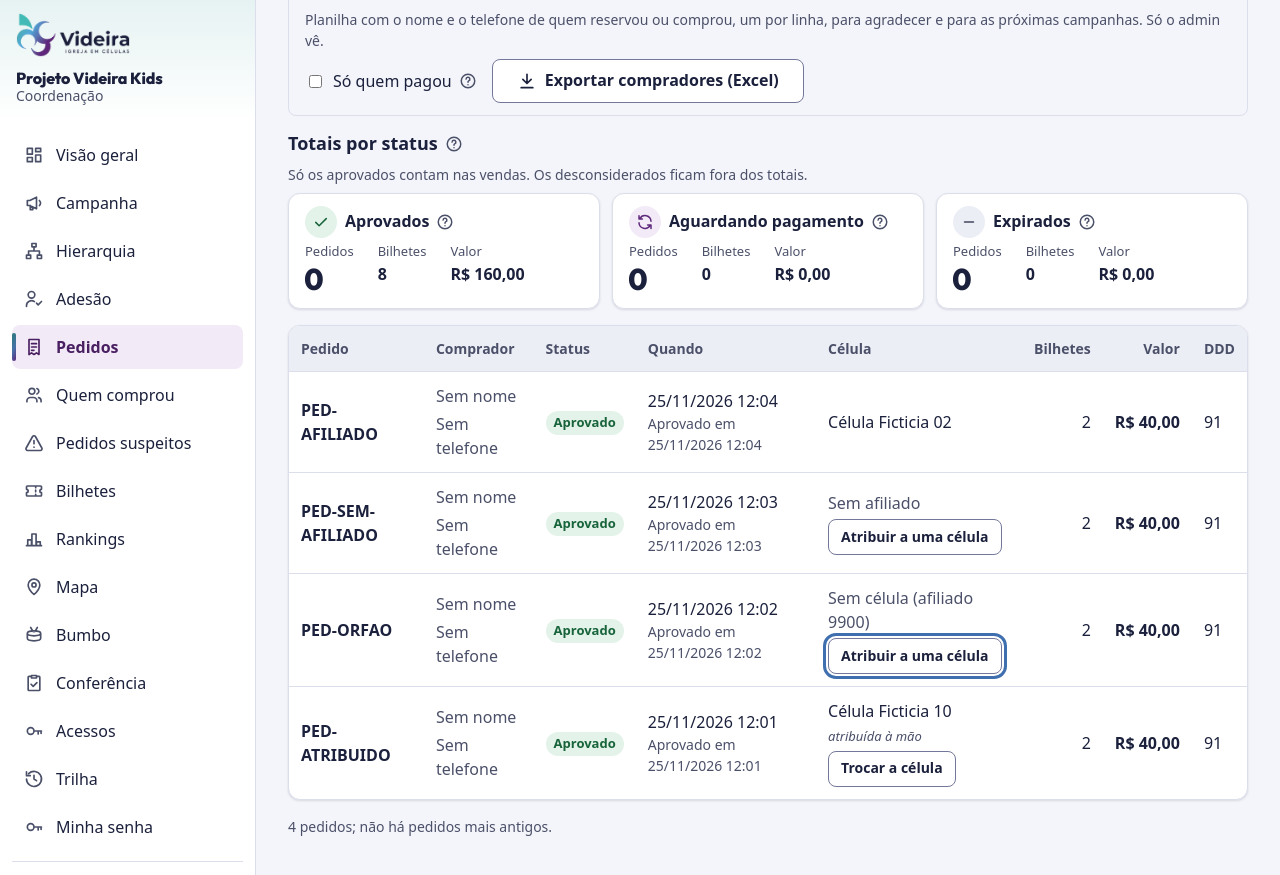
Test: RIFA-088: o diálogo › 409 (o afiliado ganhou célula): explica e troca o Cancelar por 'Entendi'
(page scrolled)
Click the button "Atribuir a uma célula" below "Sem célula (afiliado 9900)" at {"x": 915, "y": 656}, box [828,638,1002,674]
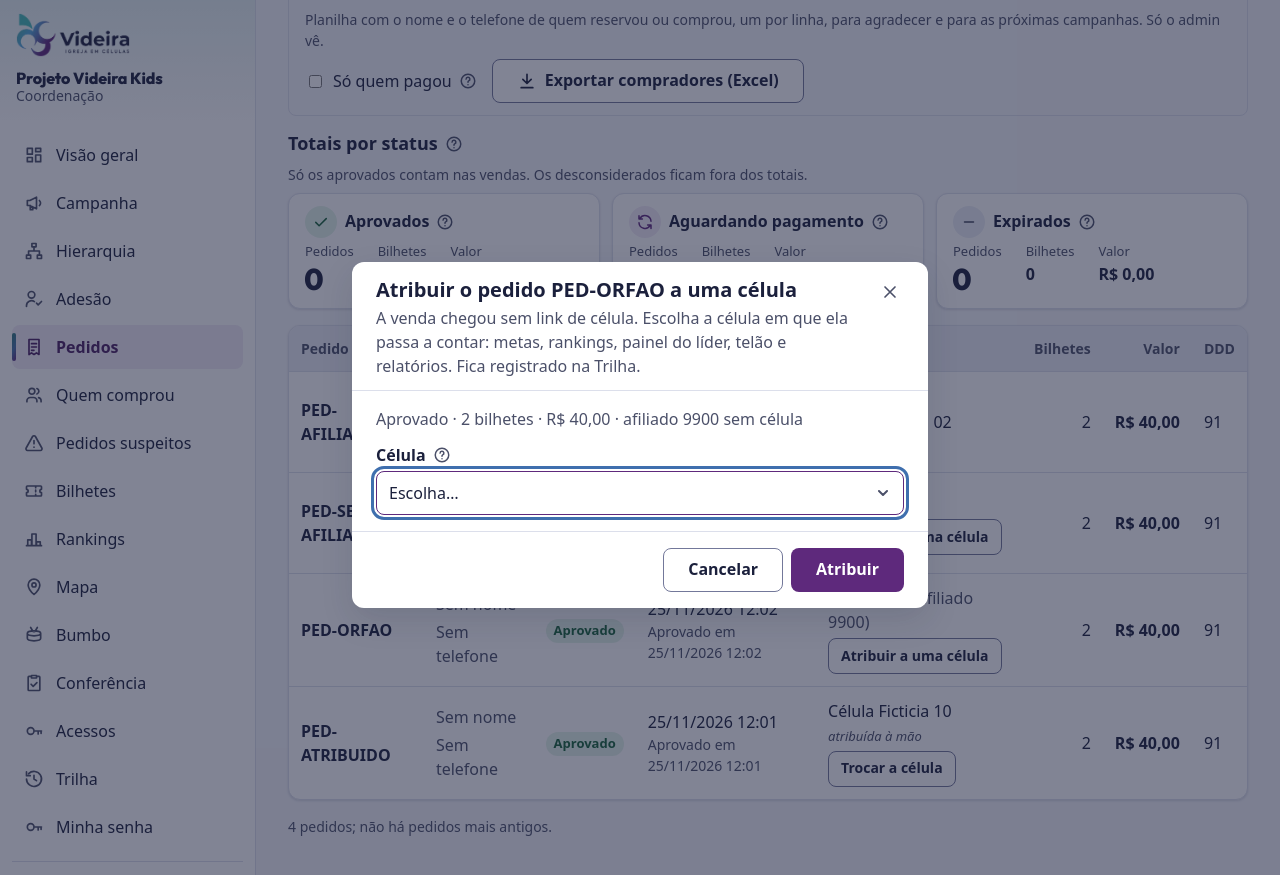
Select "Célula Ficticia 02" in the dropdown labelled "Célula" at {"x": 640, "y": 493}, box [376,471,904,515]
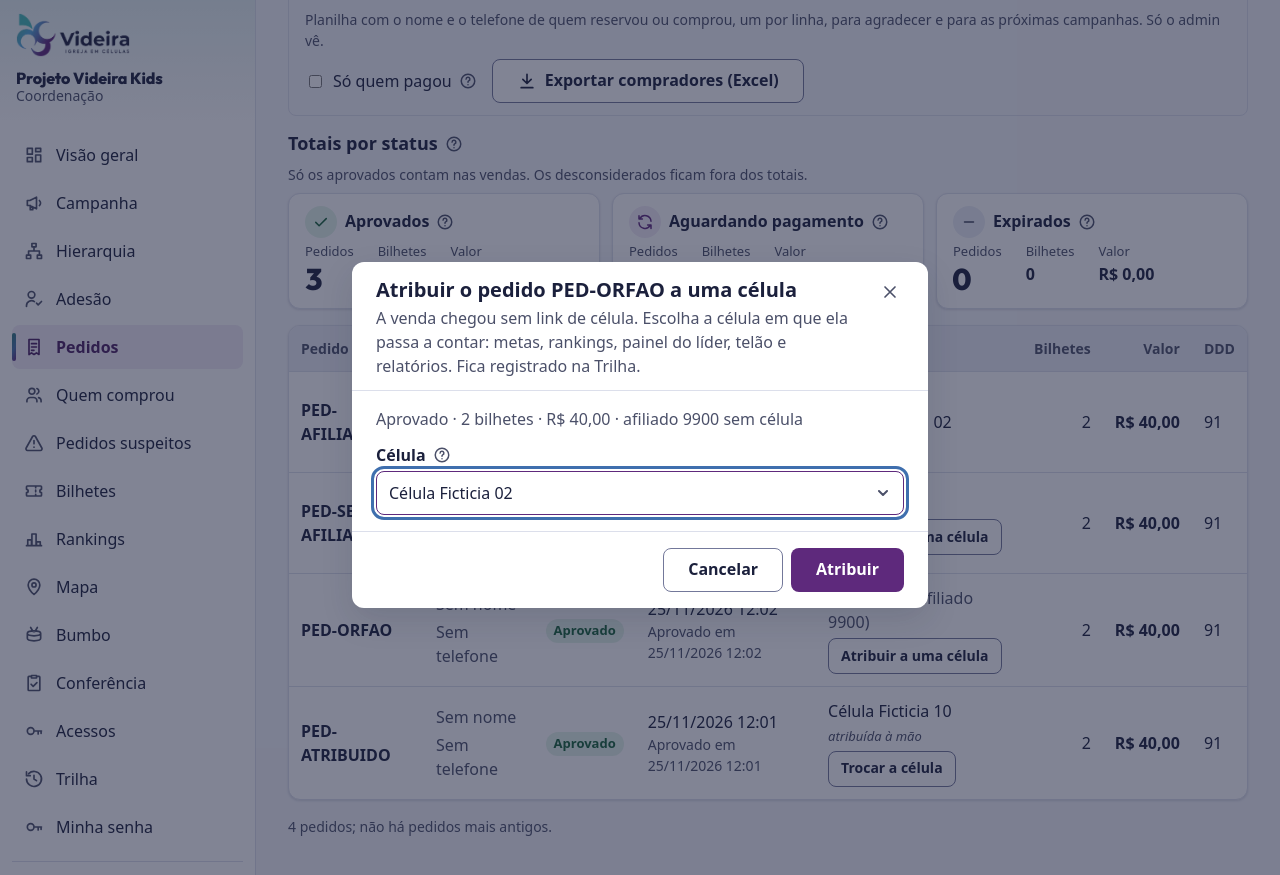
Click the button "Atribuir" at {"x": 848, "y": 570}, box [791,548,904,592]
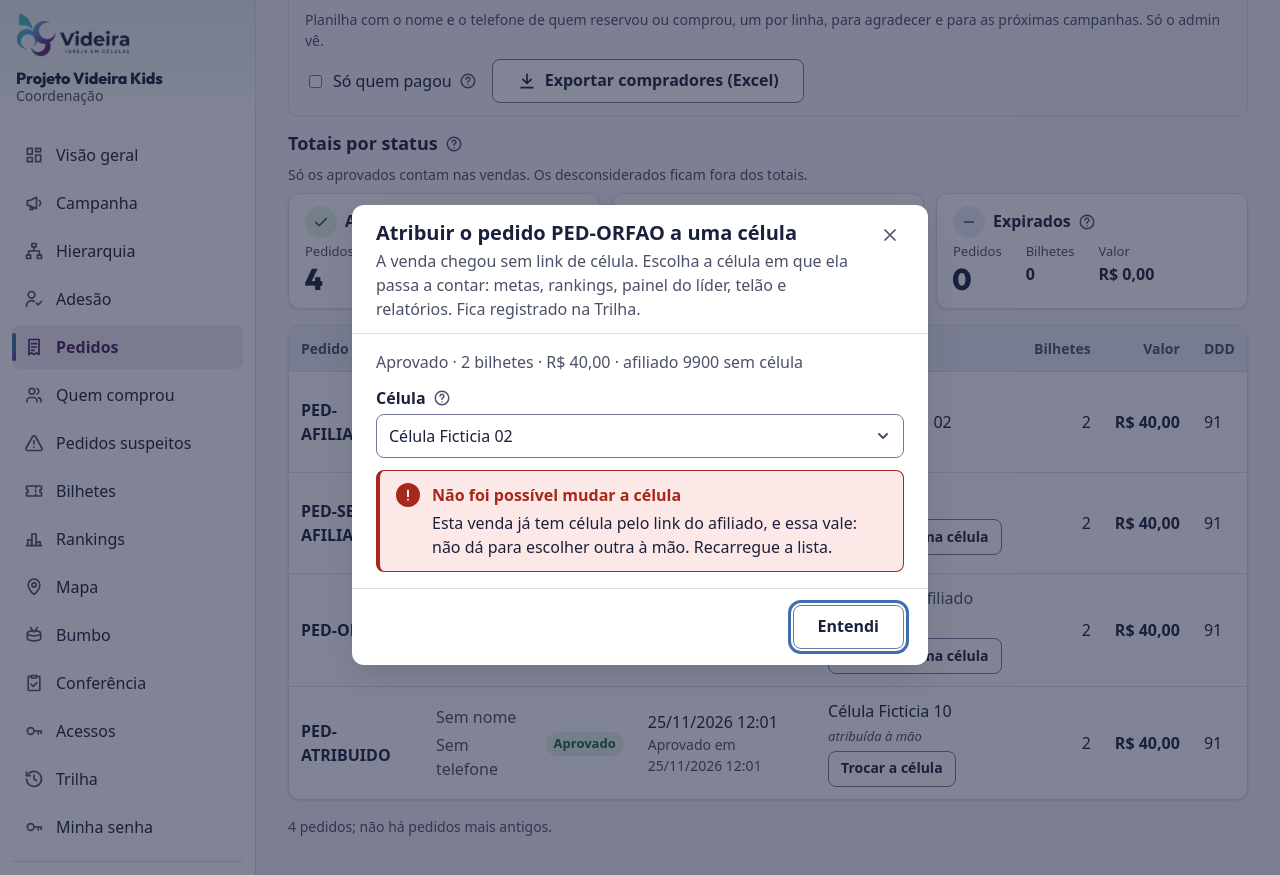
Check: the text "já tem célula pelo link do afiliado" is shown, box [432,512,857,558]
